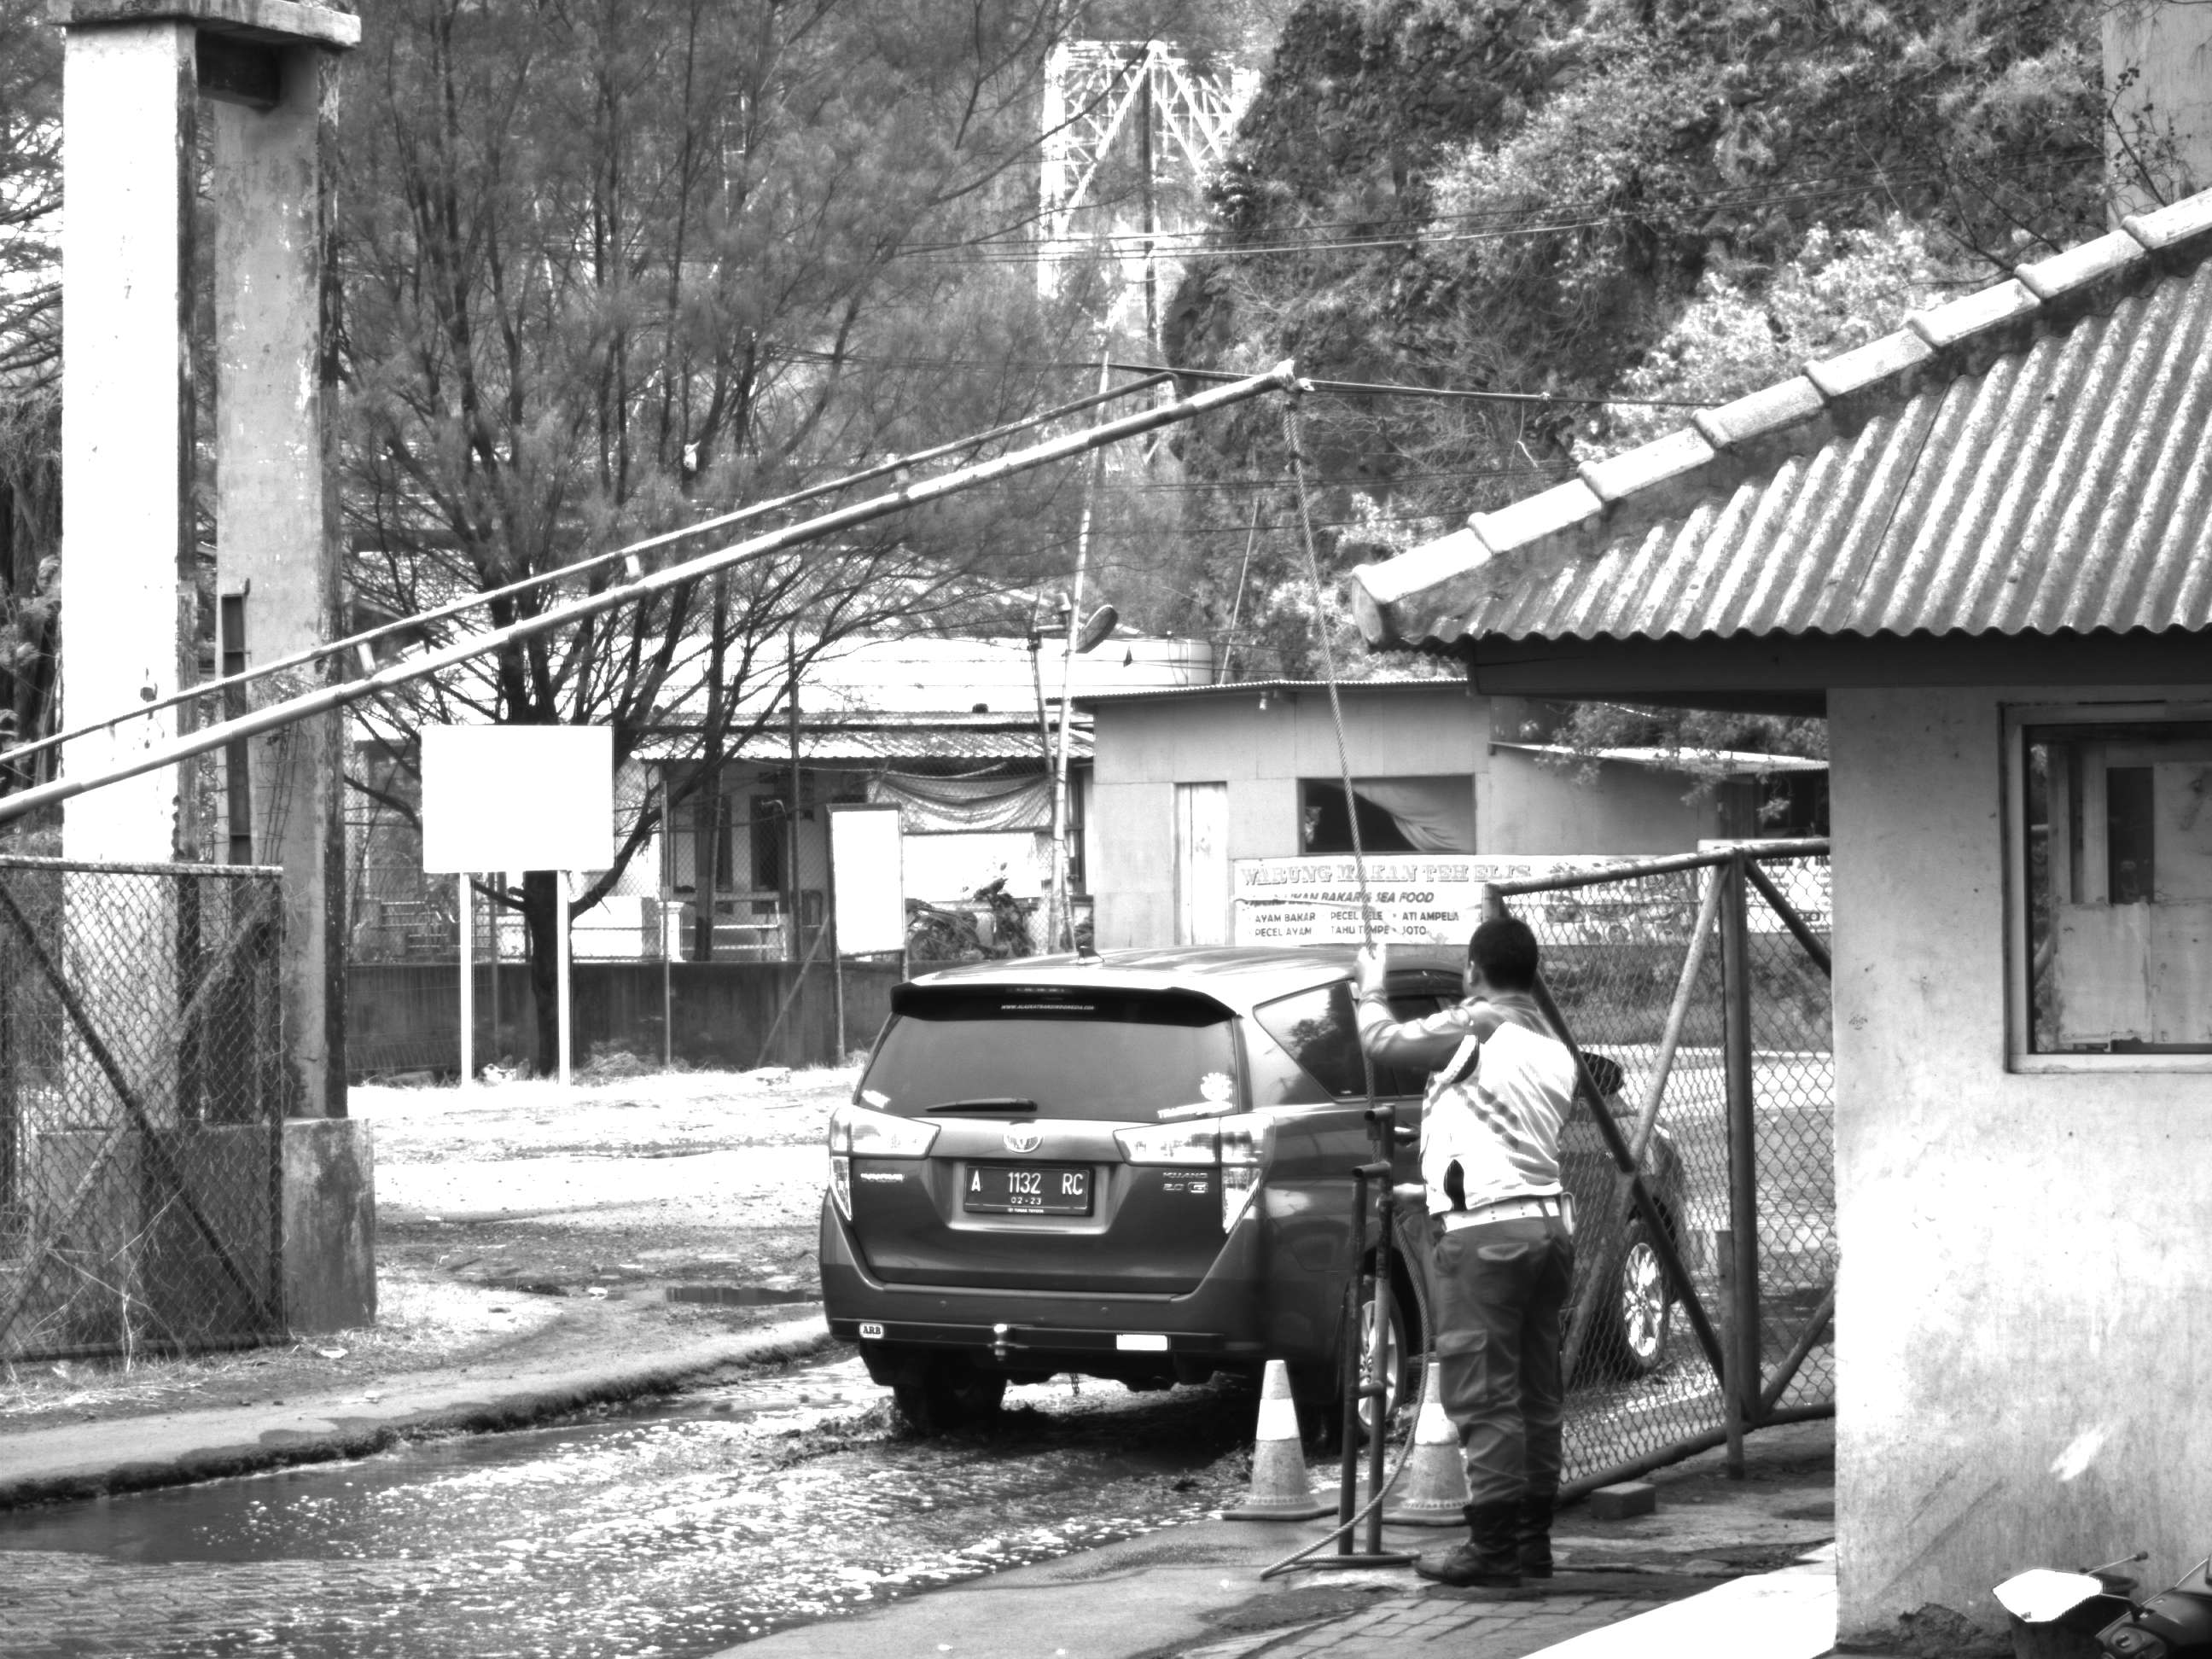day_small_rear: (817, 955, 1424, 1450)
plate: (962, 1165, 1099, 1212)
